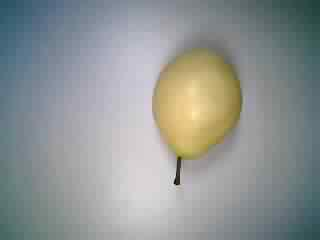pear: (134, 43, 246, 188)
